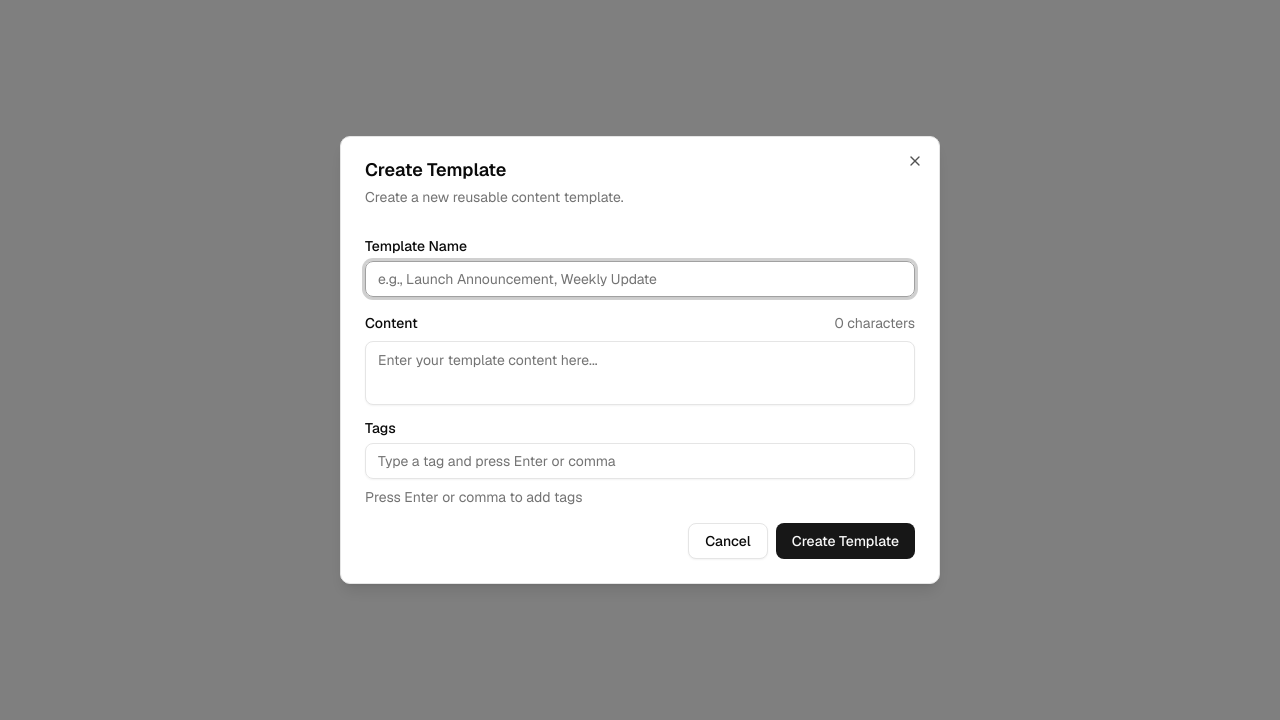
TemplateFormModal - Tag Input › should add tag when comma is pressed
In the field with placeholder "Type a tag and press Enter or comma": [640, 461] box [365,443,915,479], type "tag1,"
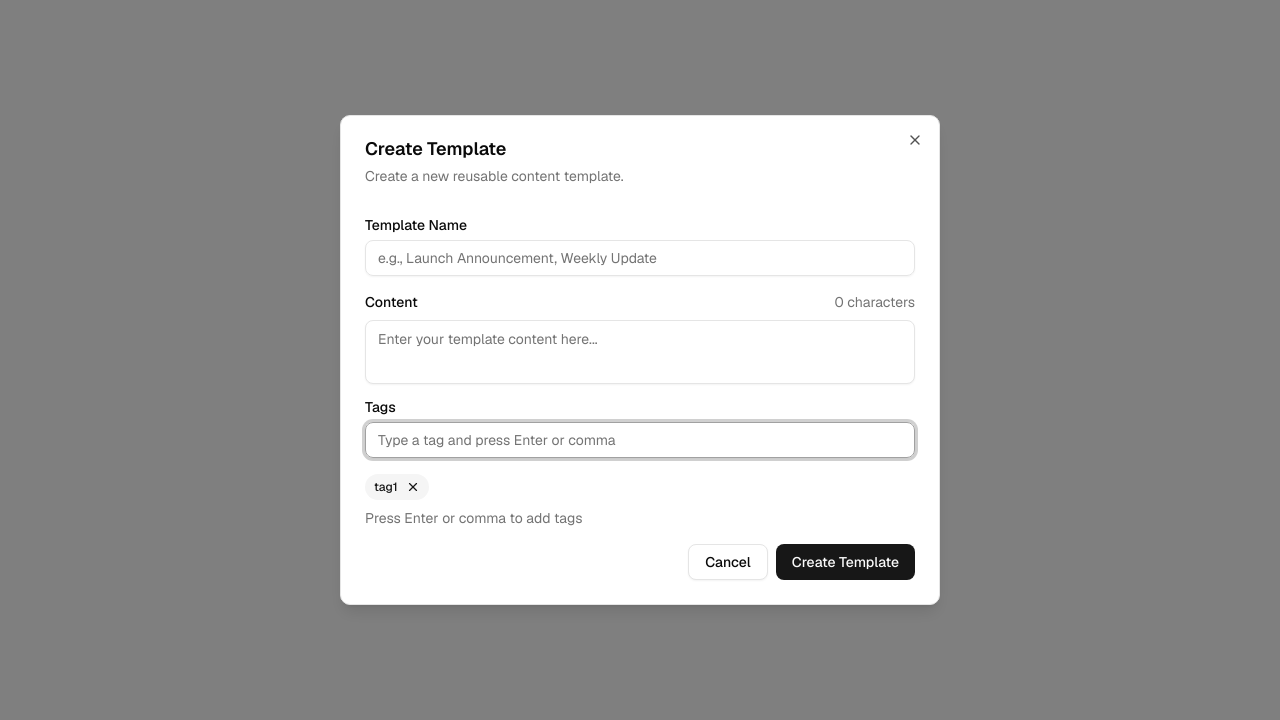
Expected: the field with placeholder "Type a tag and press Enter or comma" is empty, [365,422,915,458]
Expected: the text "tag1" is shown, [374,479,398,495]
